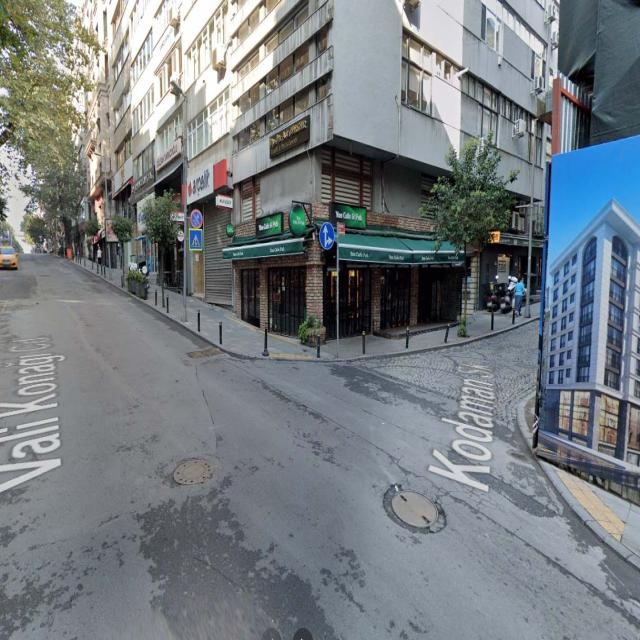ilerisag: (319, 222, 335, 249)
parkyasak: (190, 209, 202, 230)
